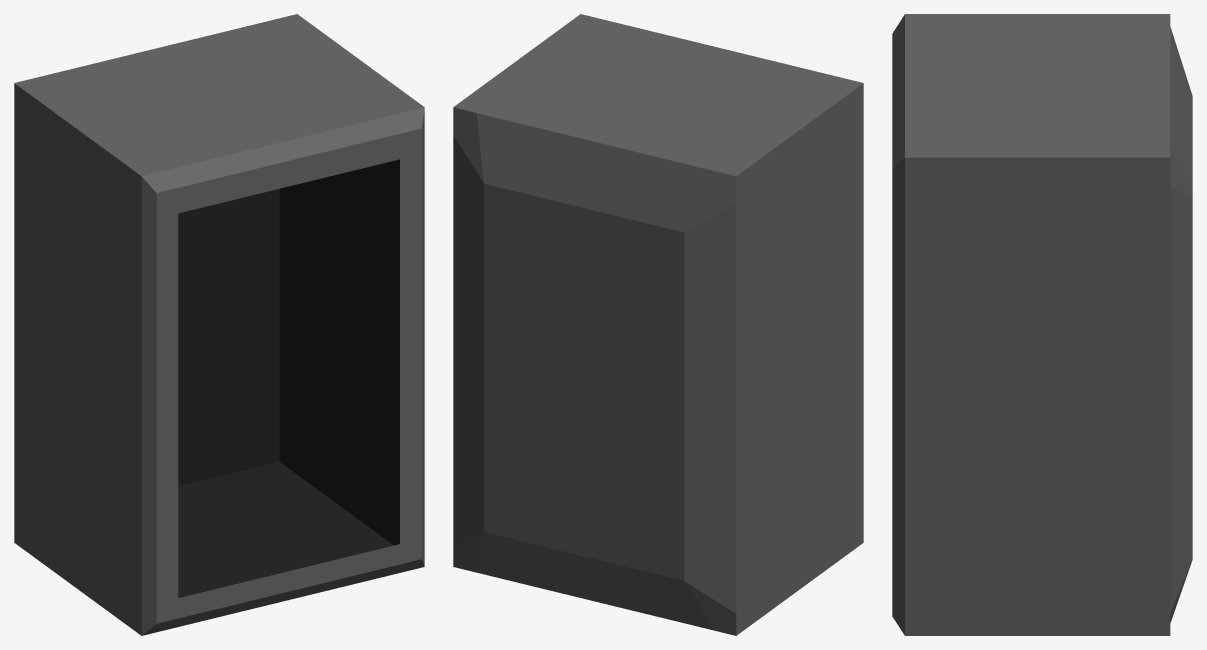
The model's file is HeavyChest.fbx.
3 renders of one model, left to right at view 1: azimuth 30°, elevation 25°; view 2: azimuth 150°, elevation 25°; view 3: azimuth 270°, elevation 25°, orthographic. The views are drawn at different scales.
Visible parts, largest first — view 1: Cube.010; view 2: Cube.010; view 3: Cube.010.
Part boxes in pixels (x1,y1,x2,y2): Cube.010: [14, 14, 424, 635]; Cube.010: [453, 14, 863, 635]; Cube.010: [892, 14, 1192, 635].
Size of the model in its own units: 55.03 by 85.39 by 48.56.
1 material, 1 textured.
